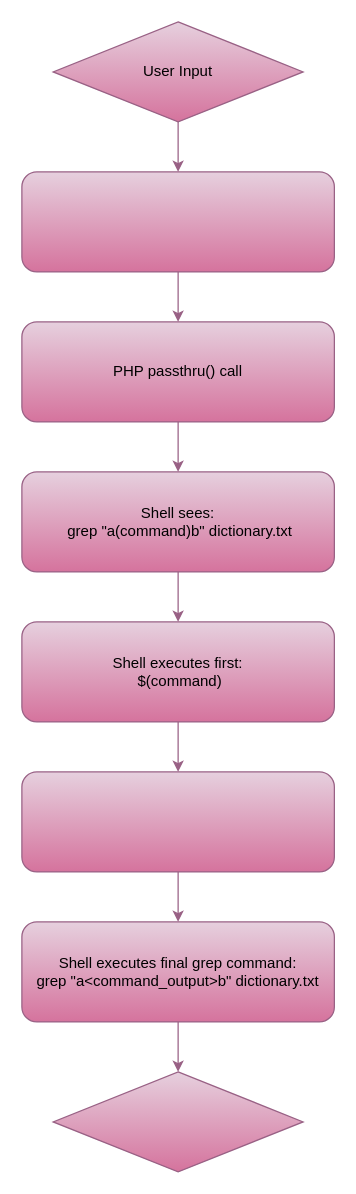
Image size: 356x1194. Some labels were removed from this diagram. The shapes that lost their labels are listed below. From the top down, each one's centre as x and y in pixels, then its label:
the point at 177,221: "a$(command)b"
the point at 177,821: Output of command replaces $(command)
the point at 177,1121: Result returned to user
